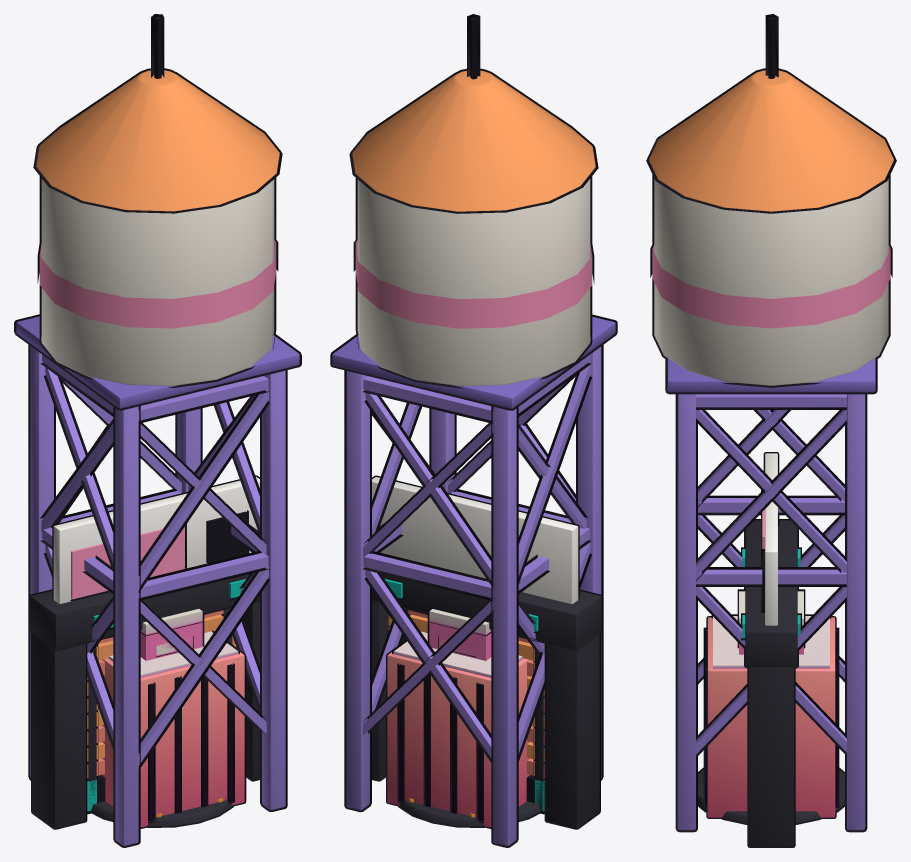
File: fps-kit-toytown.glb
3 views of the same model, side by side, from view 1: azimuth 30°, elevation 25°; view 2: azimuth 150°, elevation 25°; view 3: azimuth 270°, elevation 25° (orthographic).
Parts seen in each view (by area): view 1: KIT_TOYTOWN_Landmark_WaterTower, KIT_TOYTOWN_GateFrame, KIT_TOYTOWN_Container_bubblegum, KIT_TOYTOWN_Billboard_A, KIT_TOYTOWN_GateShutter, KIT_TOYTOWN_WallDoor_bubblegum, KIT_TOYTOWN_Hatch; view 2: KIT_TOYTOWN_Landmark_WaterTower, KIT_TOYTOWN_GateFrame, KIT_TOYTOWN_Container_bubblegum, KIT_TOYTOWN_Billboard_A, KIT_TOYTOWN_WallDoor_bubblegum, KIT_TOYTOWN_GateShutter, KIT_TOYTOWN_Hatch; view 3: KIT_TOYTOWN_Landmark_WaterTower, KIT_TOYTOWN_GateFrame, KIT_TOYTOWN_Container_bubblegum, KIT_TOYTOWN_Billboard_A, KIT_TOYTOWN_Hatch, KIT_TOYTOWN_WallDoor_bubblegum.
Part boxes in pixels (x1,y1,x2,y2): KIT_TOYTOWN_Landmark_WaterTower: [14, 14, 301, 847]; KIT_TOYTOWN_GateFrame: [29, 574, 259, 829]; KIT_TOYTOWN_Container_bubblegum: [102, 630, 246, 828]; KIT_TOYTOWN_Billboard_A: [52, 475, 259, 812]; KIT_TOYTOWN_GateShutter: [87, 610, 236, 814]; KIT_TOYTOWN_WallDoor_bubblegum: [140, 607, 204, 660]; KIT_TOYTOWN_Hatch: [88, 797, 234, 827]; KIT_TOYTOWN_Landmark_WaterTower: [330, 14, 617, 847]; KIT_TOYTOWN_GateFrame: [372, 574, 602, 829]; KIT_TOYTOWN_Container_bubblegum: [386, 631, 529, 828]; KIT_TOYTOWN_Billboard_A: [372, 475, 579, 812]; KIT_TOYTOWN_WallDoor_bubblegum: [427, 607, 491, 660]; KIT_TOYTOWN_GateShutter: [388, 610, 544, 814]; KIT_TOYTOWN_Hatch: [397, 798, 543, 827]; KIT_TOYTOWN_Landmark_WaterTower: [646, 14, 896, 832]; KIT_TOYTOWN_GateFrame: [741, 519, 801, 847]; KIT_TOYTOWN_Container_bubblegum: [703, 614, 839, 818]; KIT_TOYTOWN_Billboard_A: [761, 452, 779, 625]; KIT_TOYTOWN_Hatch: [698, 767, 844, 824]; KIT_TOYTOWN_WallDoor_bubblegum: [737, 589, 805, 654].
Size of the model in its own units: 4.12 by 13.16 by 3.85.
1 material, 1 textured.
